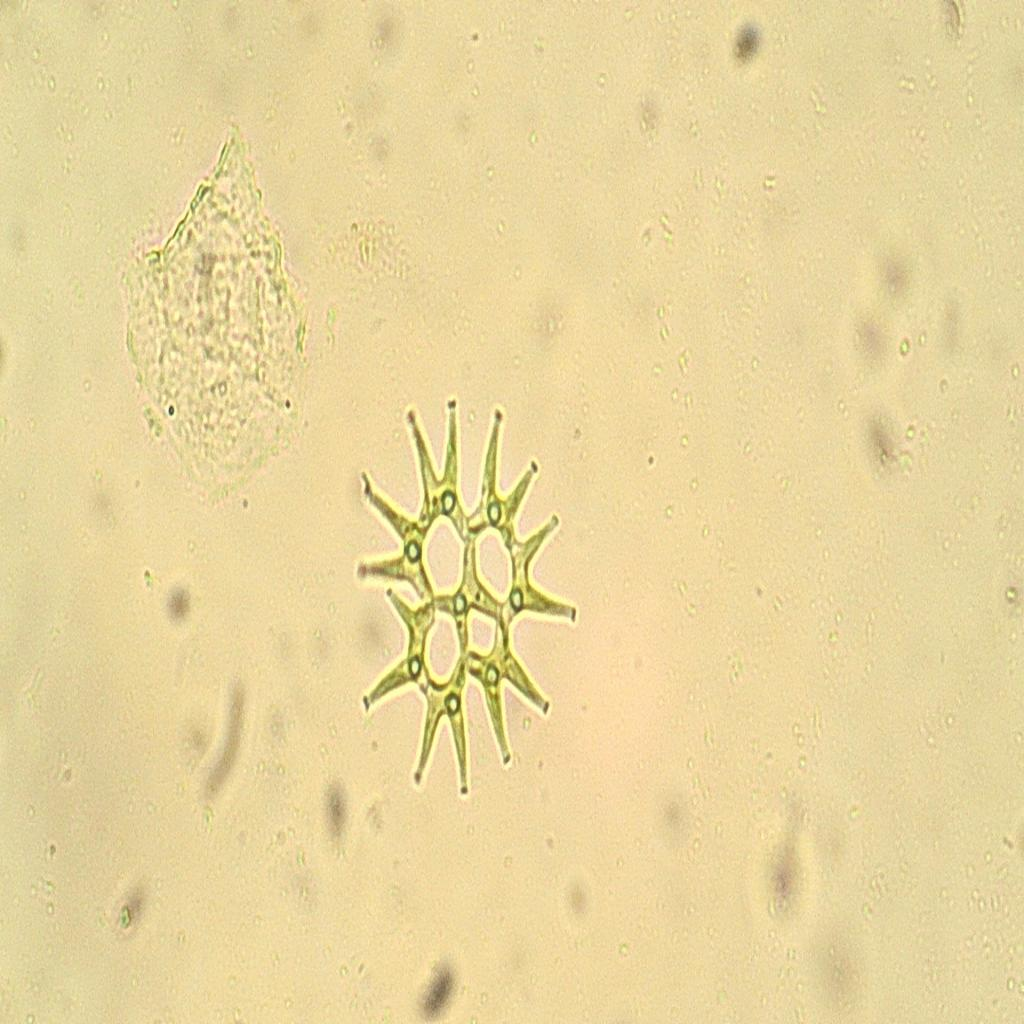Pediastrum_1T: (341, 375, 583, 817)
